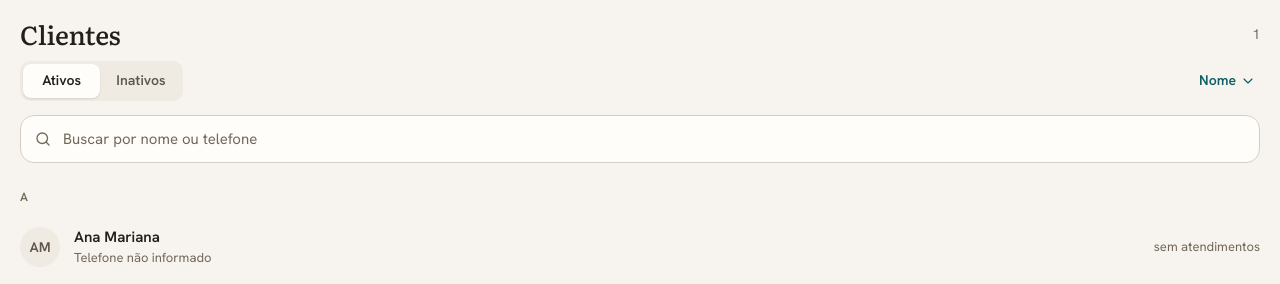
Test: CL3 — Clientes · busca › marca só a primeira ocorrência dentro do nome
This screenshot has width=1280, height=284.
Type "ana" into the search field at [640, 139], box [20,115,1260,163]
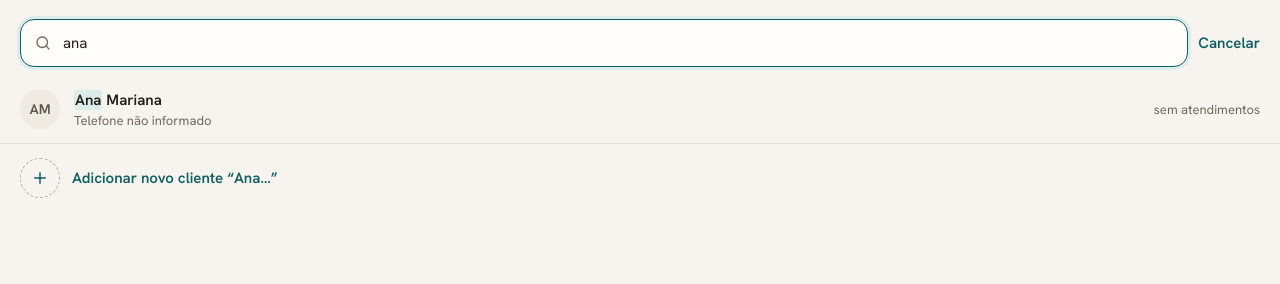
Now the text "Ana" is shown, box [74,90,102,110]
